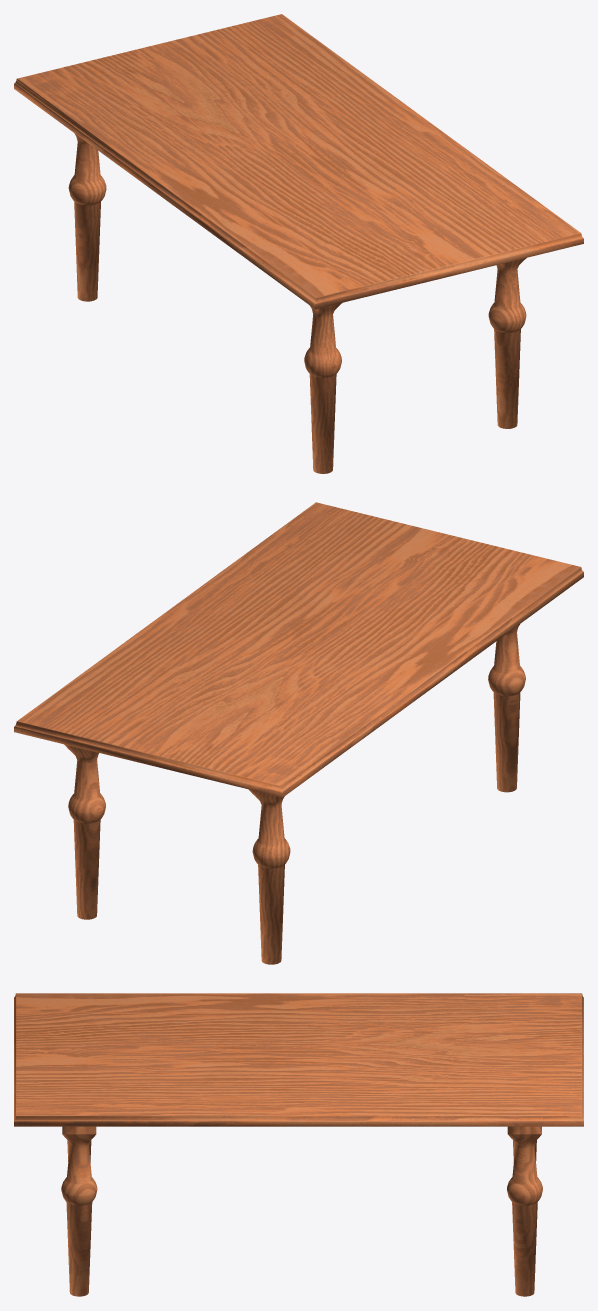
Rendered from dining_table.glb.
The picture shows the model from 3 angles, top to bottom: view 1: azimuth 30°, elevation 25°; view 2: azimuth 150°, elevation 25°; view 3: azimuth 270°, elevation 25°; orthographic projection. The views are drawn at different scales.
Parts seen in each view (by area): view 1: Cube.026, Cylinder.014; view 2: Cube.026, Cylinder.014; view 3: Cube.026, Cylinder.014.
Part boxes in pixels (x1=…): Cube.026: x1=14, y1=14, x2=583, y2=309; Cylinder.014: x1=68, y1=133, x2=526, y2=473; Cube.026: x1=14, y1=502, x2=583, y2=797; Cylinder.014: x1=64, y1=624, x2=525, y2=964; Cube.026: x1=14, y1=993, x2=583, y2=1126; Cylinder.014: x1=61, y1=1126, x2=542, y2=1296.
Bounding box in the file's own units: 1.61 × 1.18 × 3.13.
Materials: 1 (1 with a texture image).
